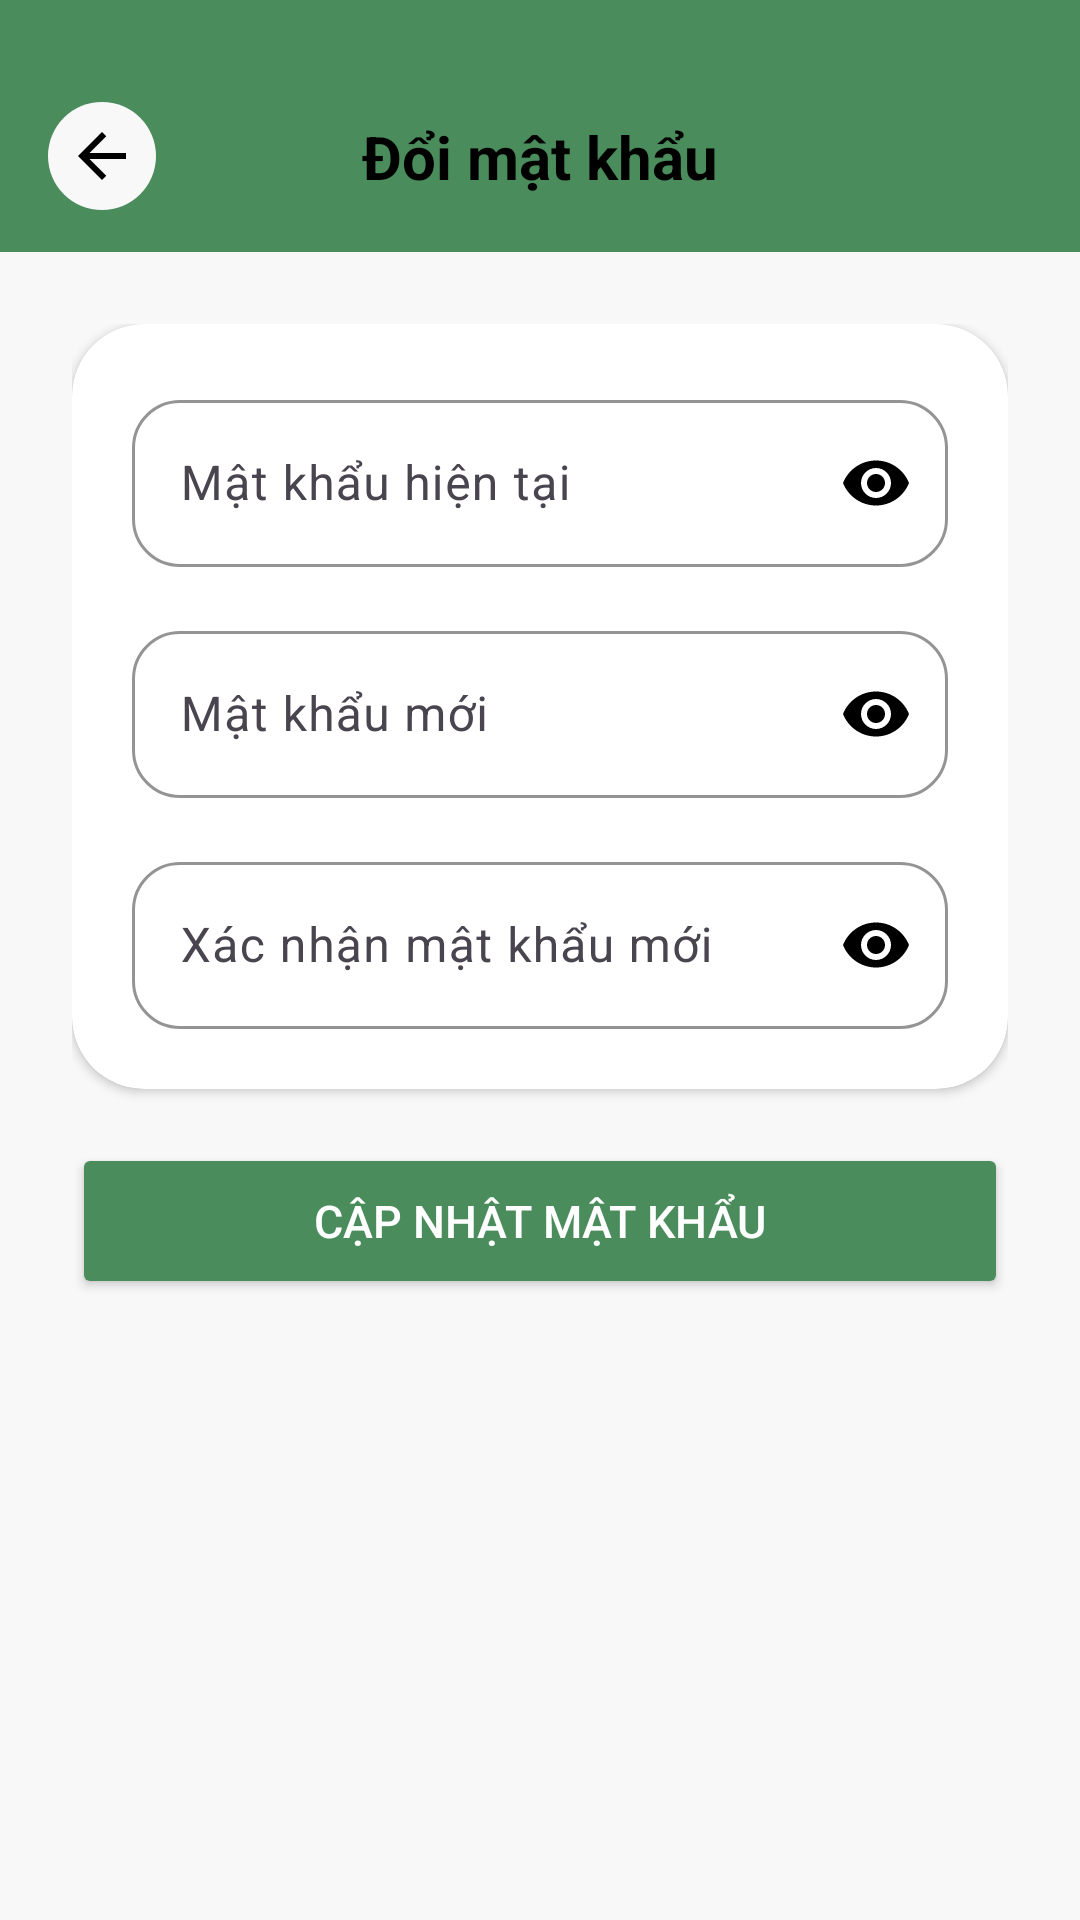

Point at icon controls on the screen. Image size 1080*1920, points as point (x, y).
arrow back: point (102, 156)
